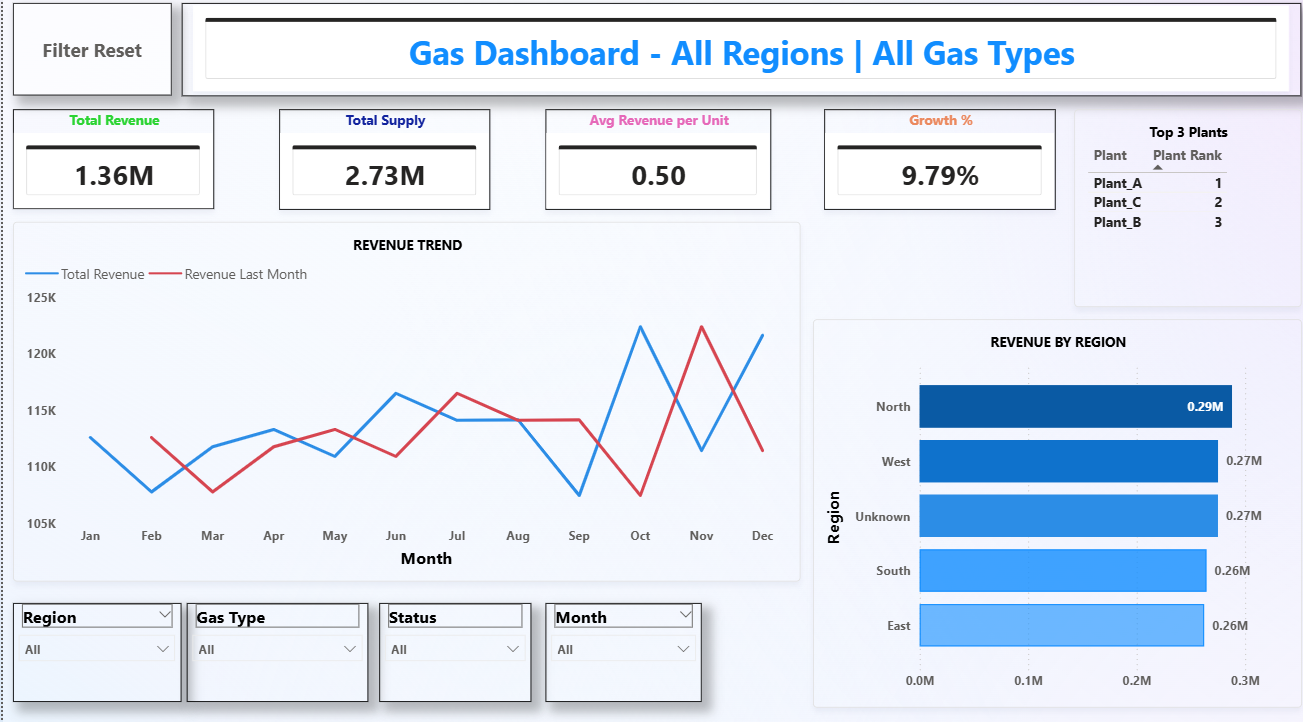

This screenshot's page, from the dashboard's own definition file:
{"tool":"powerbi","page":{"name":"EXECUTIVE OVERVIEW","canvas":[1280,720],"ordinal":0},"visuals":[{"type":"textbox","box":[174.6,10.1,1095.1,90.9],"z":0},{"type":"cardVisual","fields":{"Data":["Measure.Dynamic Title"]},"box":[185.9,12.2,1072.4,84.4],"z":1},{"type":"cardVisual","title":"Total Revenue","fields":{"Data":["Measure.Total Revenue"]},"box":[9.8,113.7,196.9,97.8],"z":2,"group":"g1"},{"type":"cardVisual","title":"Total Supply","fields":{"Data":["Measure.Total Supply"]},"box":[269.8,114,206.3,98.1],"z":3,"group":"g1"},{"type":"cardVisual","title":"Avg Revenue per Unit","fields":{"Data":["Measure.Avg Revenue per Unit"]},"box":[531,114,220.7,98.1],"z":4,"group":"g1"},{"type":"cardVisual","title":"Growth %","fields":{"Data":["Measure.Growth %"]},"box":[803.6,114,226.5,98.1],"z":5,"group":"g1"},{"type":"lineChart","title":"REVENUE TREND","fields":{"Y":["Measure.Total Revenue","Measure.Revenue Last Month"],"Category":["DateTable.Year Hierarchy.Year","DateTable.Year Hierarchy.Month"]},"box":[10.1,223.6,770.4,352],"z":6},{"type":"barChart","title":"REVENUE BY REGION","fields":{"Category":["Dim_Region.region"],"Y":["Measure.Total Revenue"]},"box":[792.4,319.2,478.1,380.3],"z":7},{"type":"tableEx","title":"Top 3 Plants","fields":{"Values":["Dim_Plant.plant","Measure.Plant Rank"]},"box":[1047.4,114,222.2,193.3],"z":8},{"type":"slicer","fields":{"Values":["Dim_Region.region"]},"box":[10.1,597.3,164.5,96.7],"z":9,"group":"g2"},{"type":"slicer","fields":{"Values":["Dim_GasType.gas_type"]},"box":[180.3,597.3,177.5,96.7],"z":10,"group":"g2"},{"type":"slicer","fields":{"Values":["Dim_Status.status"]},"box":[367.9,597.3,148.6,96.7],"z":11,"group":"g2"},{"type":"slicer","fields":{"Values":["DateTable.Month"]},"box":[530.7,596.7,152.9,96.6],"z":12,"group":"g2"},{"type":"actionButton","box":[9.8,9.8,155.3,90.5],"z":13},{"type":"group","id":"g1","title":"Group 1","box":[9.8,113.7,1021.1,97.8],"z":14},{"type":"group","id":"g2","title":"Group 2","box":[10.1,596.7,673.5,97.2],"z":15}]}

Visuals, with their boxes in screenshot pixels (x1, y1, x2, y2), scaled from the page's 1280x720 canvas onto the 1303x722 screenshot:
textbox: bbox=[178, 10, 1293, 101]
cardVisual - Measure.Dynamic Title: bbox=[189, 12, 1281, 97]
"Total Revenue" cardVisual: bbox=[10, 114, 210, 212]
"Total Supply" cardVisual: bbox=[275, 114, 485, 213]
"Avg Revenue per Unit" cardVisual: bbox=[541, 114, 765, 213]
"Growth %" cardVisual: bbox=[818, 114, 1049, 213]
"REVENUE TREND" lineChart: bbox=[10, 224, 795, 577]
"REVENUE BY REGION" barChart: bbox=[807, 320, 1293, 701]
"Top 3 Plants" tableEx: bbox=[1066, 114, 1292, 308]
slicer - Dim_Region.region: bbox=[10, 599, 178, 696]
slicer - Dim_GasType.gas_type: bbox=[184, 599, 364, 696]
slicer - Dim_Status.status: bbox=[375, 599, 526, 696]
slicer - DateTable.Month: bbox=[540, 598, 696, 695]
actionButton: bbox=[10, 10, 168, 101]
"Group 1" group: bbox=[10, 114, 1049, 212]
"Group 2" group: bbox=[10, 598, 696, 696]
